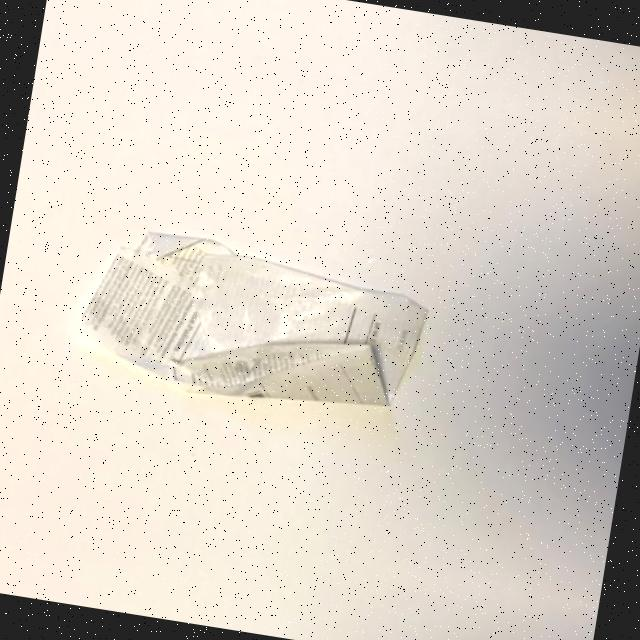paper: (63, 202, 459, 440)
